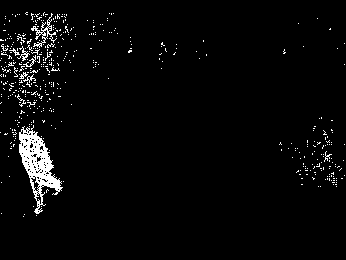person: (19, 126, 62, 214)
